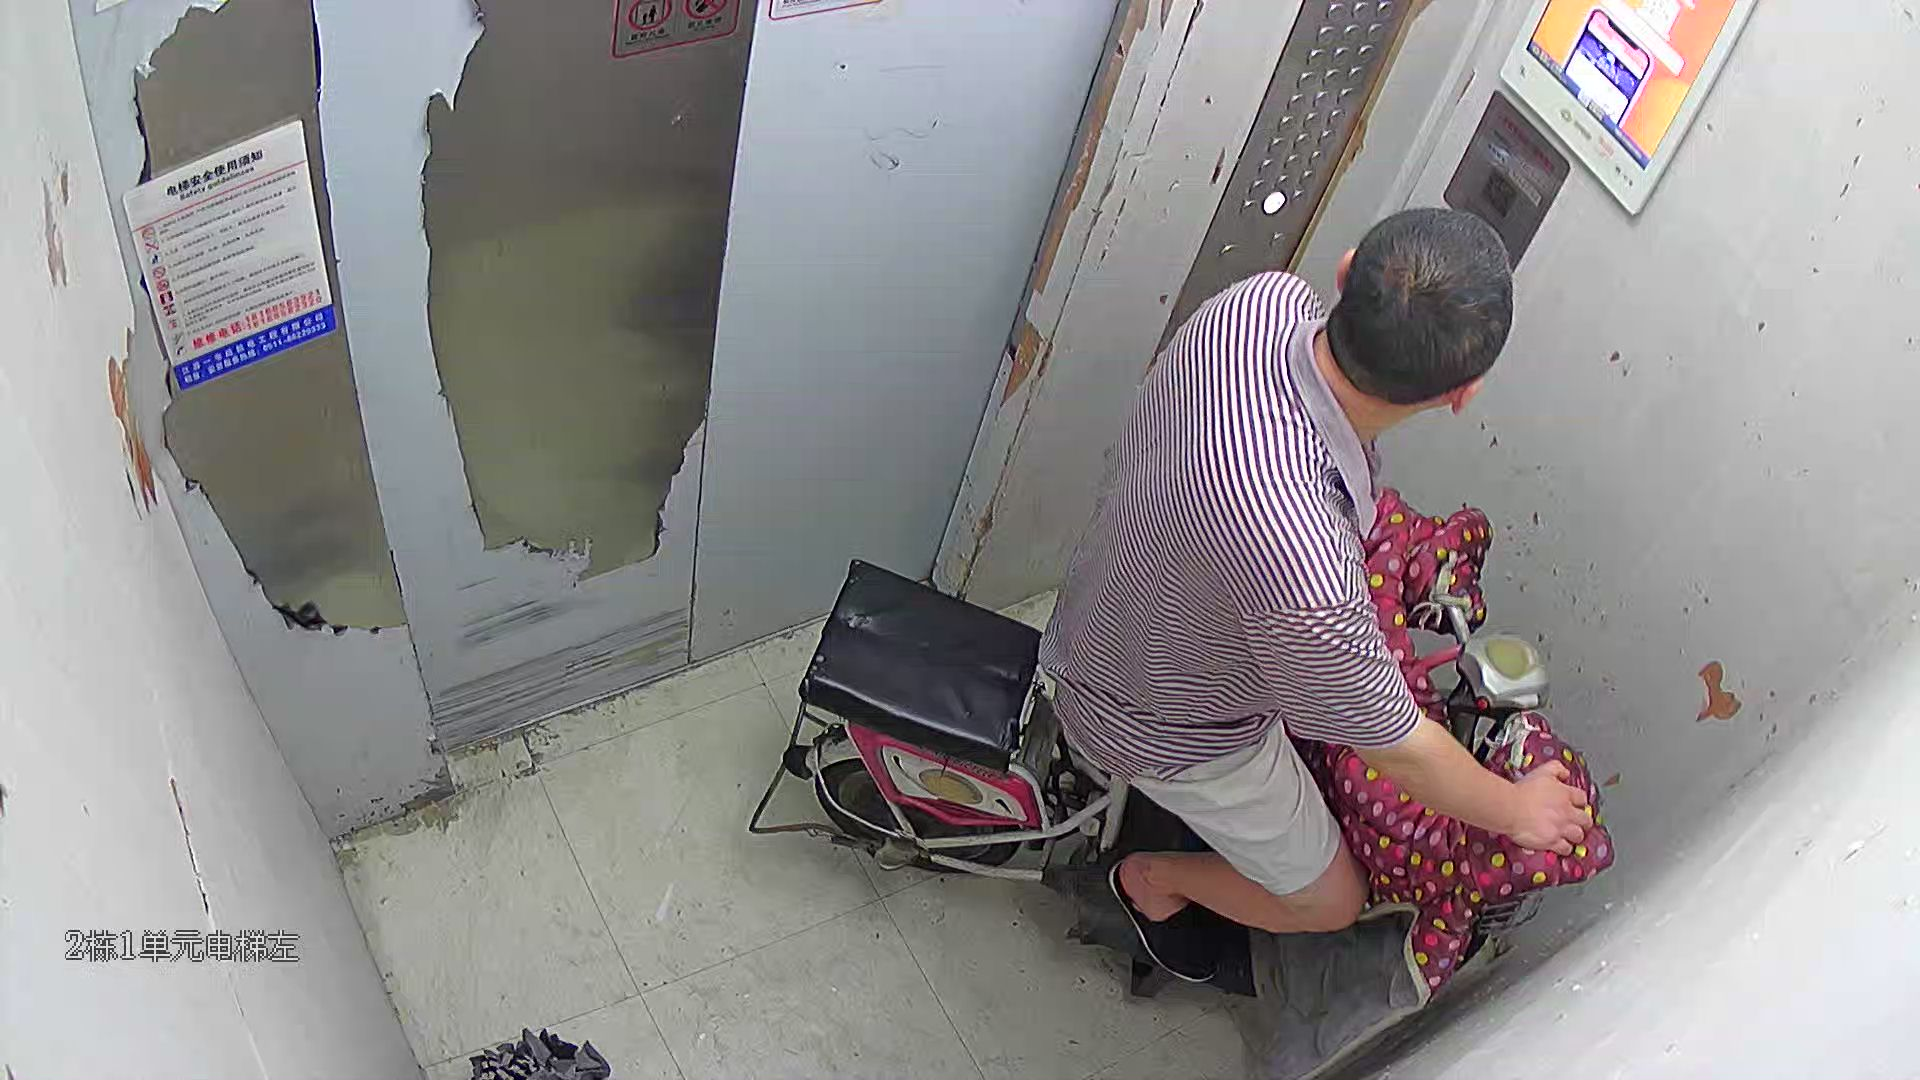Electric-bicycle: (807, 485, 1617, 959)
